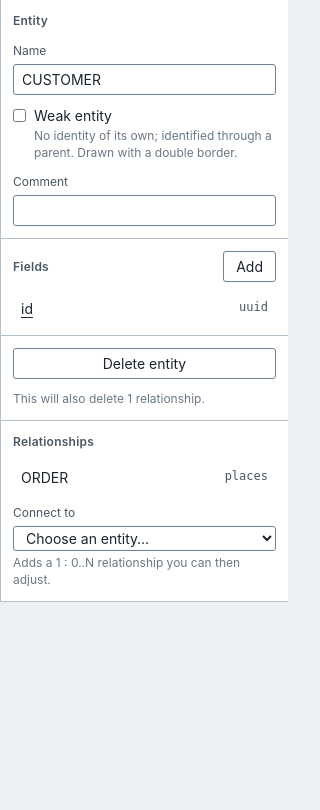
fields › adds a field and selects it, so the cursor lands where the work is
The width and height of the screenshot is (320, 810).
Click the button "Add": (250, 267) [223,252,276,282]
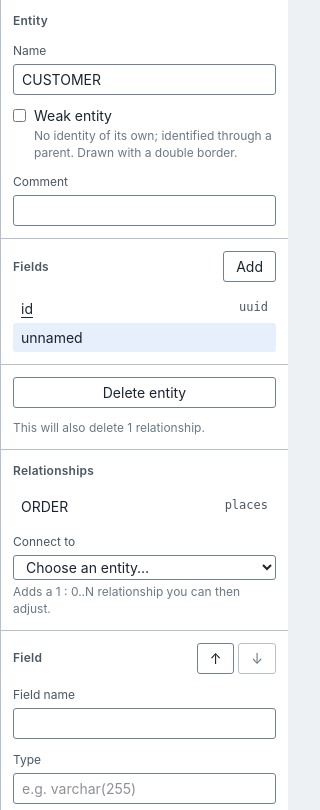
Now the heading "Field" is shown, box [13,649,42,667]
